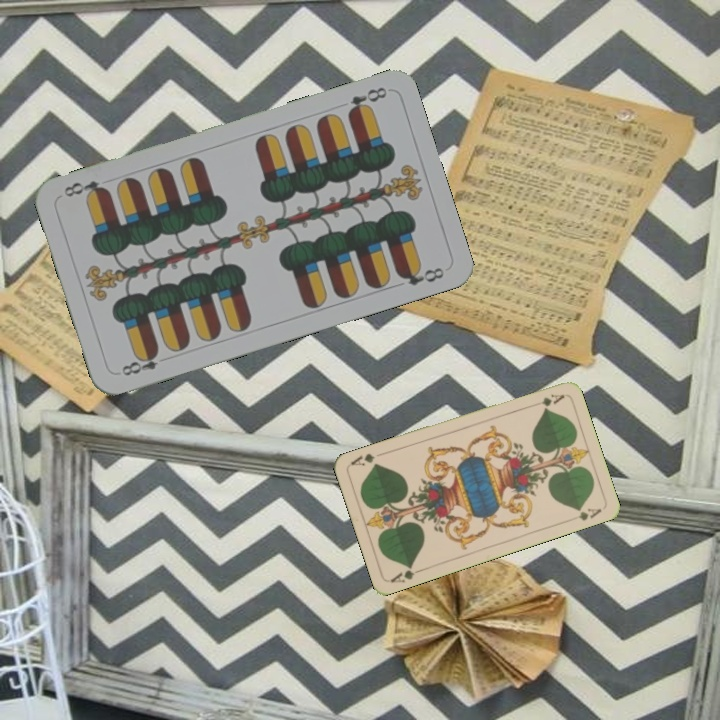E8: (343, 83, 390, 118), (117, 346, 162, 379)
GA: (386, 561, 426, 585), (527, 390, 567, 410)
